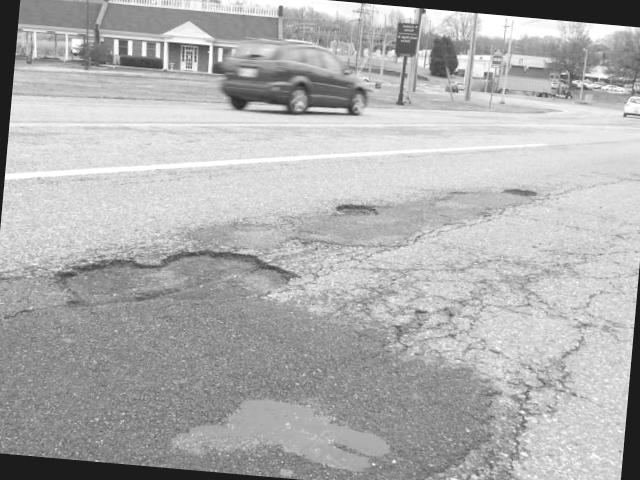Pothole: (58, 220, 305, 330), (336, 191, 382, 228), (493, 176, 542, 206)
